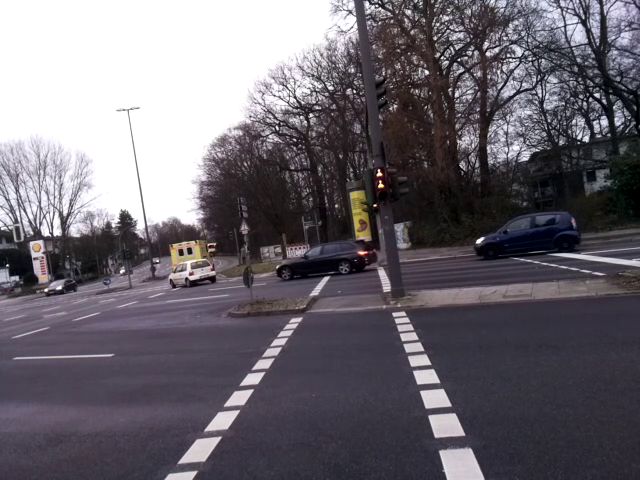car: (469, 208, 584, 256), (274, 236, 377, 277)
